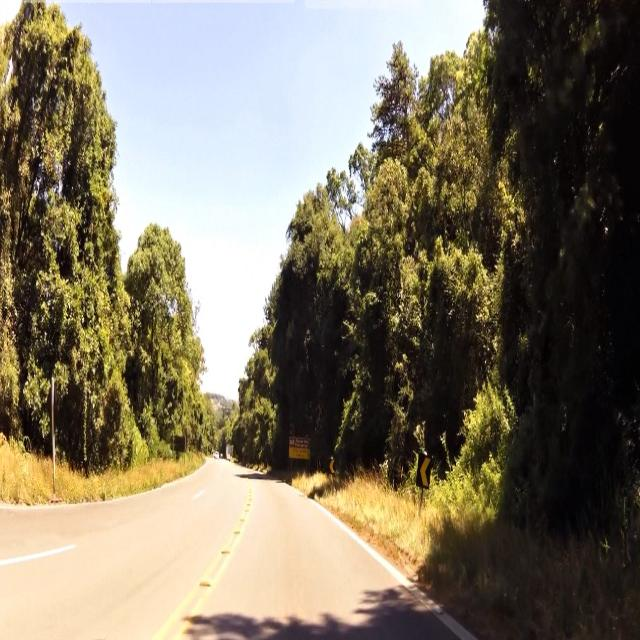Del: (418, 454, 431, 495), (329, 456, 336, 475)
